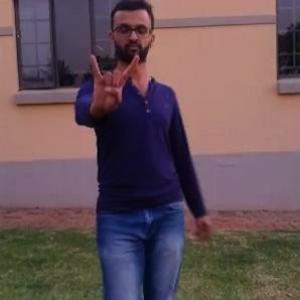takeoff-hand: (84, 43, 139, 118)
